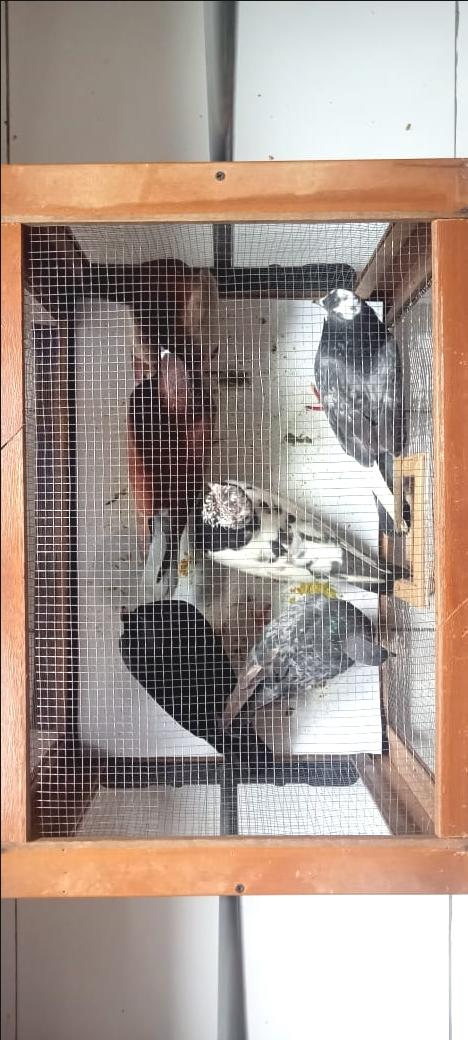Merpati: (118, 598, 269, 773), (194, 477, 410, 594), (312, 287, 411, 536), (125, 349, 217, 598), (118, 257, 221, 390)
